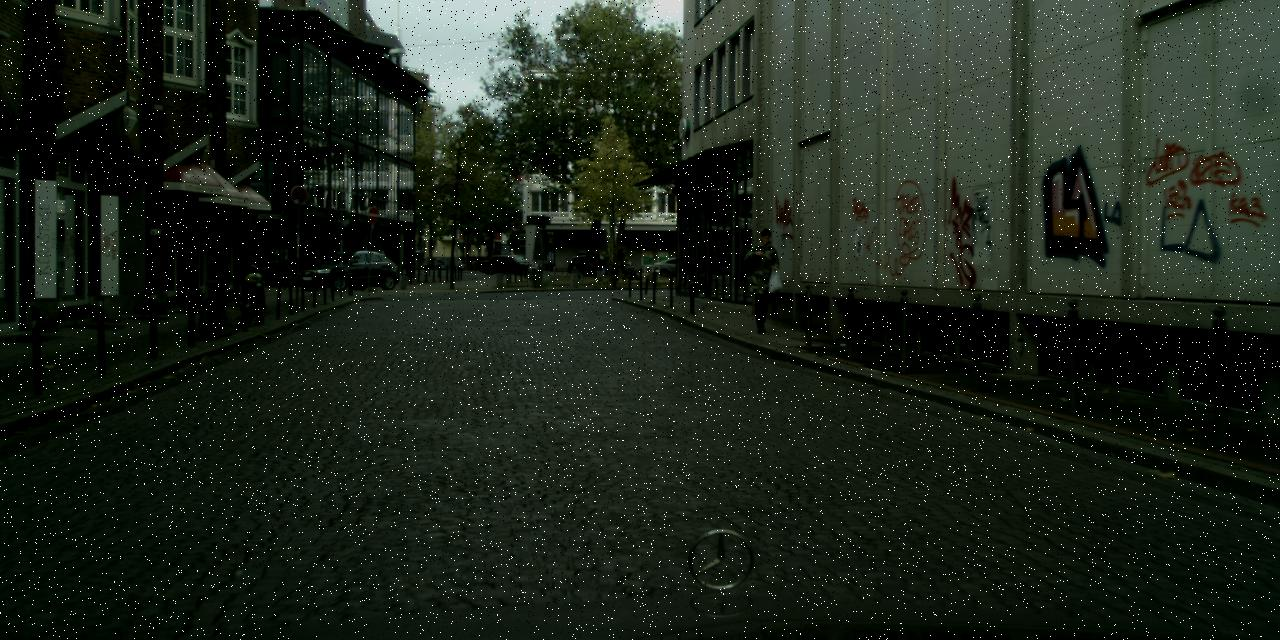ped: (742, 228, 785, 333), (615, 248, 627, 280)
